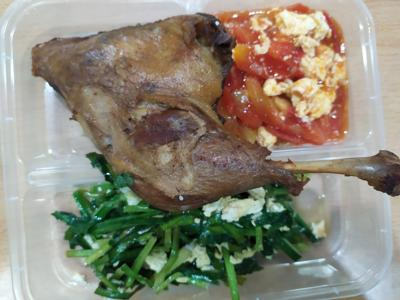jdjc: (79, 200, 313, 285)
jdxhs: (233, 13, 349, 140)
jt2: (33, 33, 244, 184)
